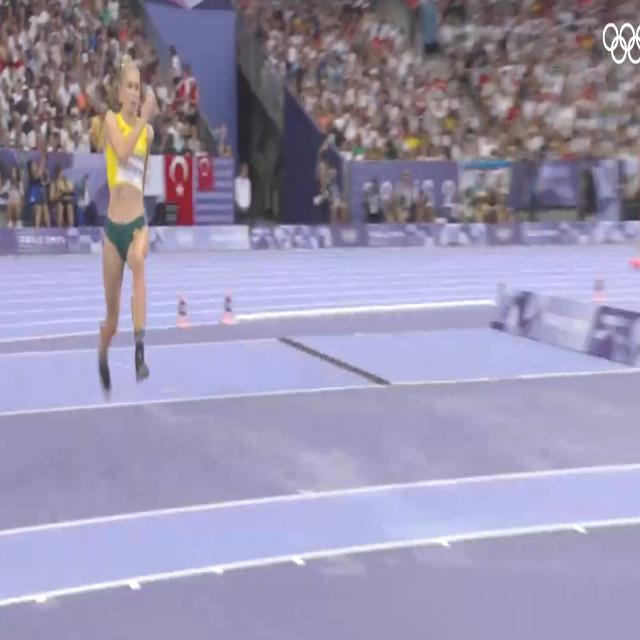run: (98, 56, 154, 403)
